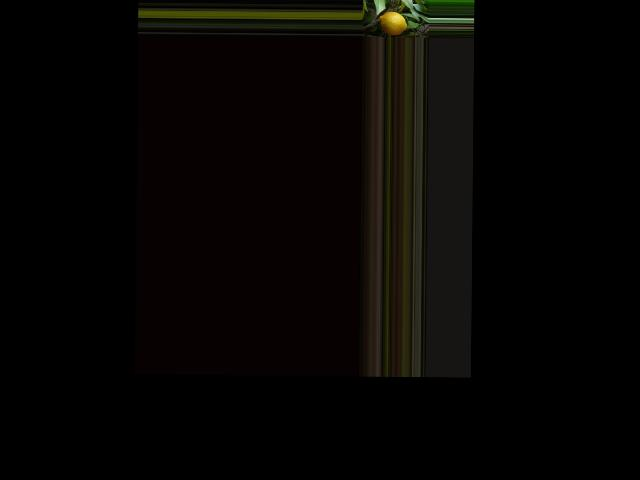lemon: (377, 8, 408, 36)
